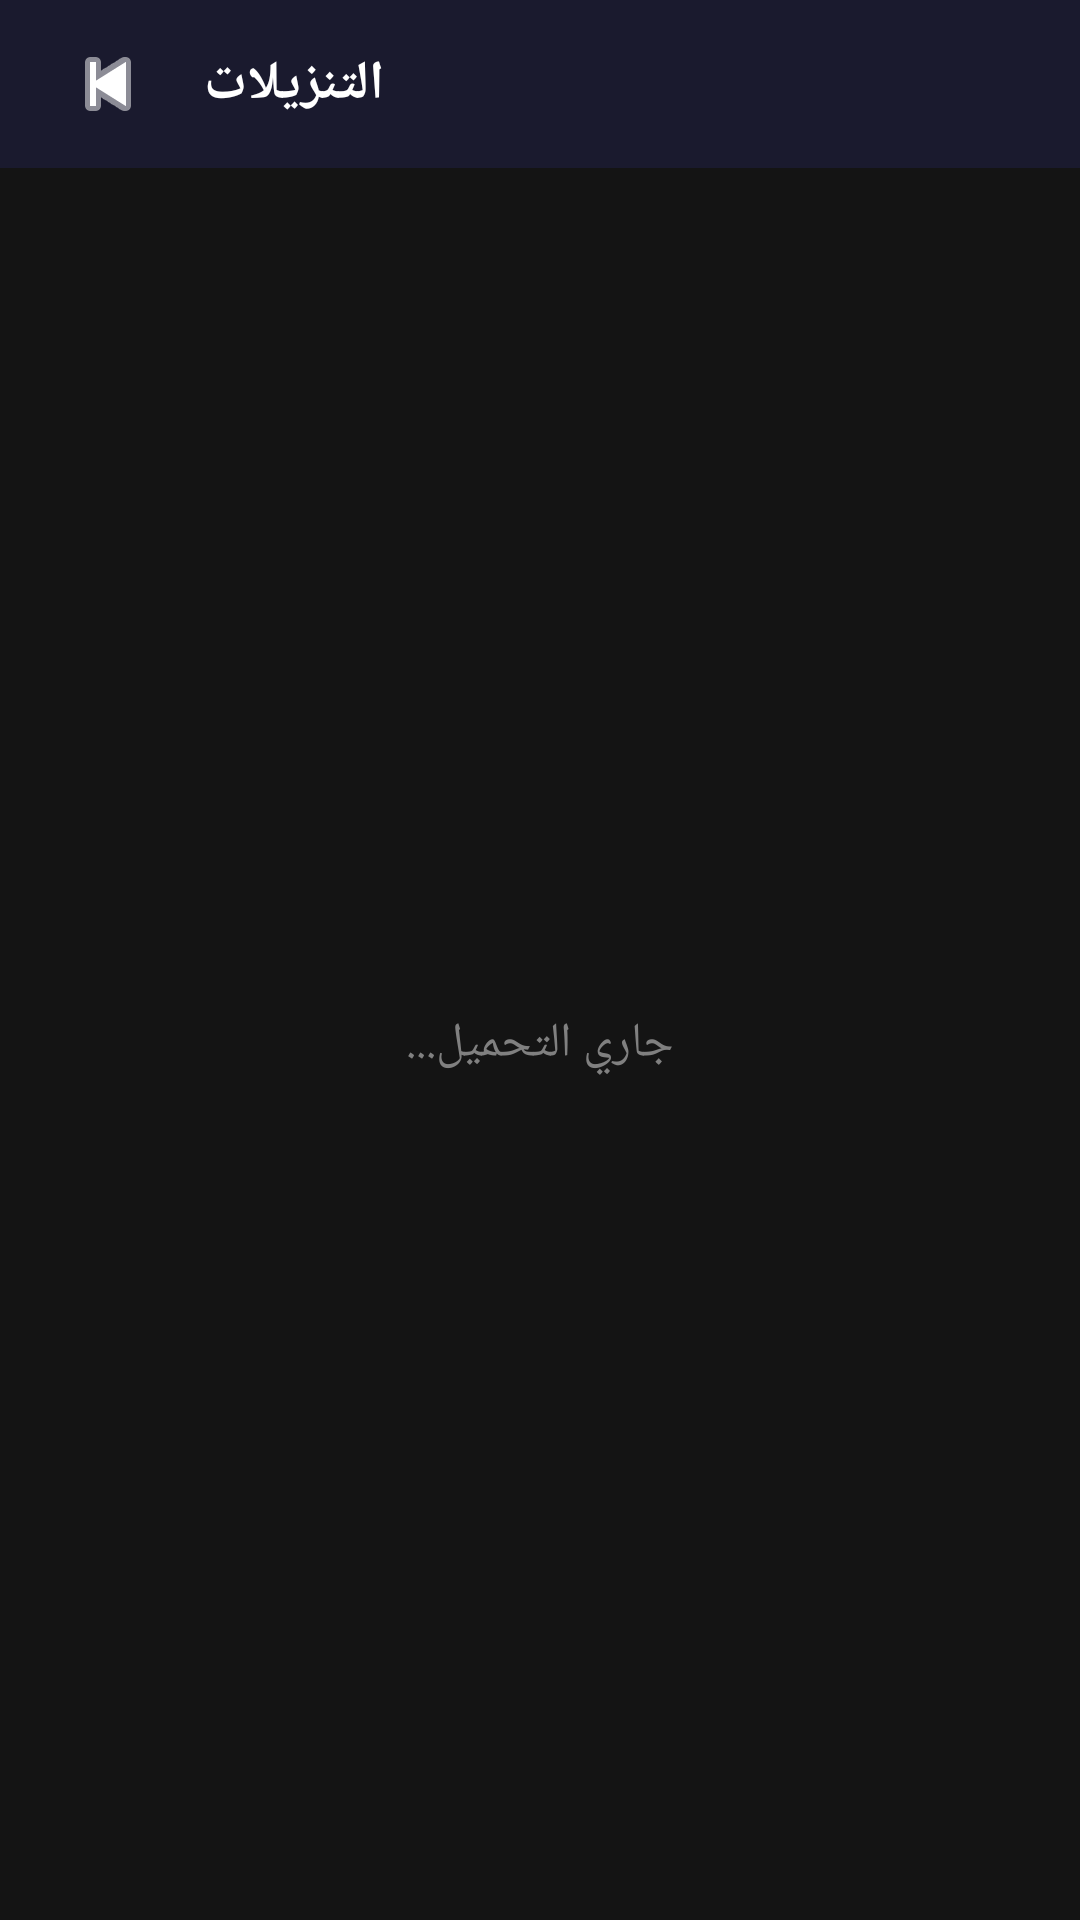

Point at icon controls on the screen. Image size 1080 x 1920, points as [x,y].
previous: [108,84]
